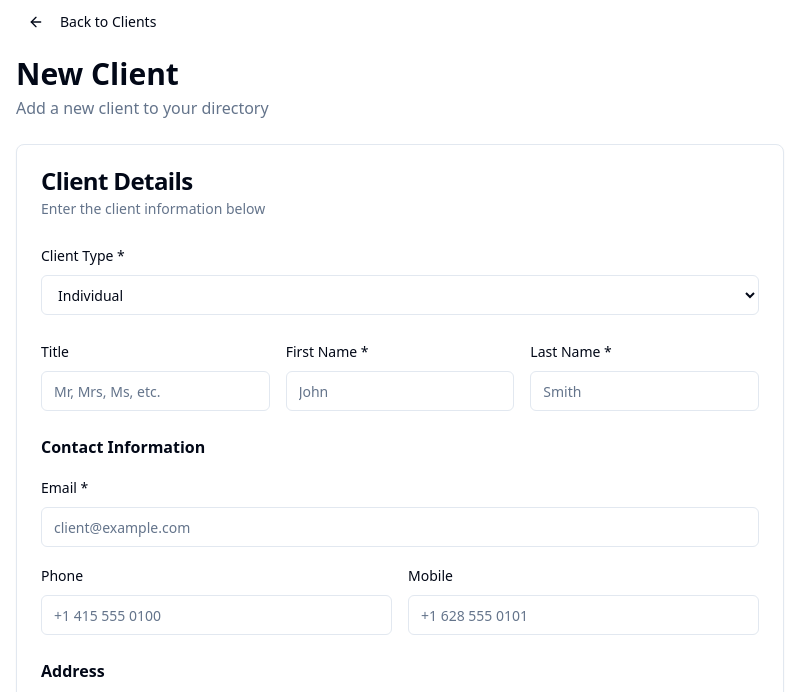
Scenario: NewClientPage › shows appropriate fields for trust type
The image size is (801, 692).
Select "Trust" in the dropdown labelled "Client Type *" at [400, 295], box x1=41 y1=275 x2=759 y2=315
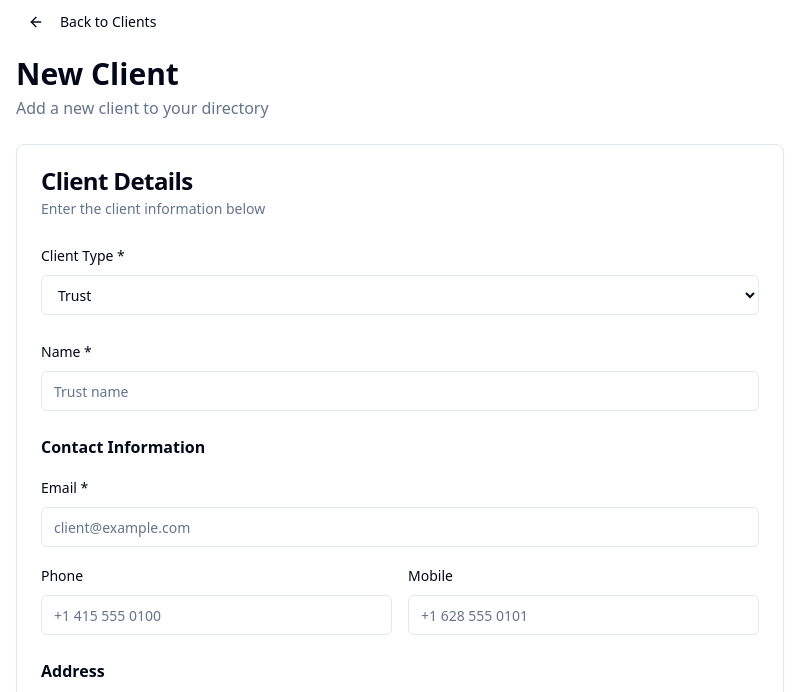
Expected: the field labelled "Name *" is shown, x1=41 y1=371 x2=759 y2=411
Expected: the label labelled "First Name" is gone
Expected: the label labelled "Last Name" is gone
